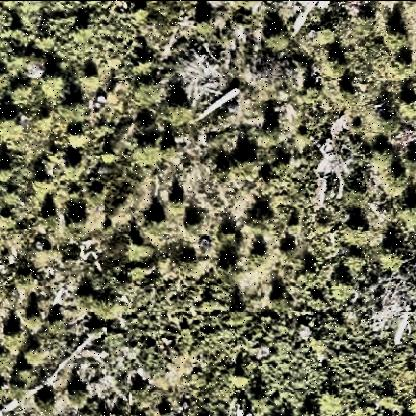tree-top: (244, 203, 278, 237), (339, 217, 369, 249), (132, 138, 162, 169), (62, 96, 90, 128), (261, 24, 292, 52), (65, 383, 93, 413), (163, 97, 192, 124), (376, 245, 403, 273), (41, 70, 66, 100), (231, 149, 257, 175), (33, 388, 58, 414), (368, 144, 395, 168), (335, 75, 357, 103), (181, 210, 204, 236), (126, 243, 153, 265), (63, 193, 86, 218), (3, 112, 21, 140), (262, 119, 284, 141), (23, 305, 43, 329), (386, 24, 409, 42), (22, 349, 45, 367)
